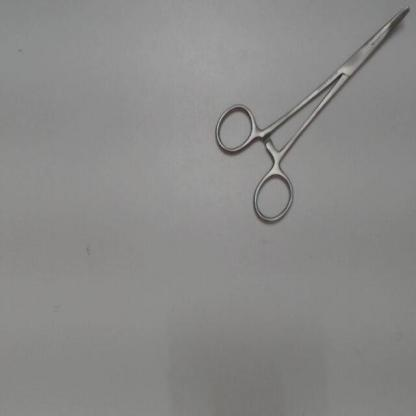Crile Artery Forceps: (208, 2, 412, 231)
